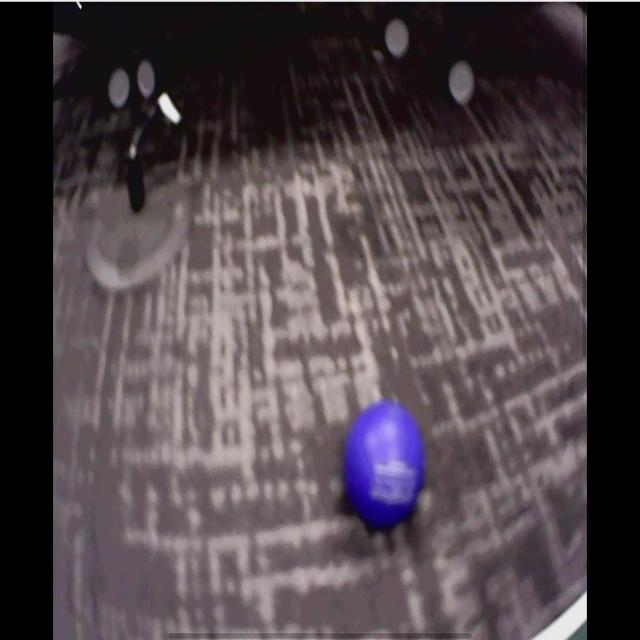ball: (349, 404, 425, 520)
